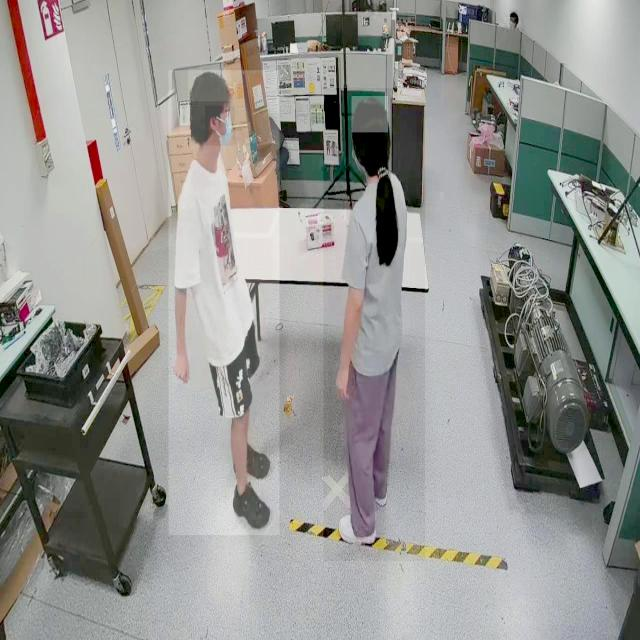face_mask: (205, 106, 235, 146)
hand_noglove: (332, 363, 350, 401), (172, 350, 191, 384)
head_nohelmet: (188, 70, 232, 102), (352, 96, 388, 133), (509, 10, 518, 18)
person: (168, 70, 280, 536), (324, 88, 426, 562)
shoes: (230, 478, 272, 534), (335, 508, 379, 550), (232, 443, 272, 478)
